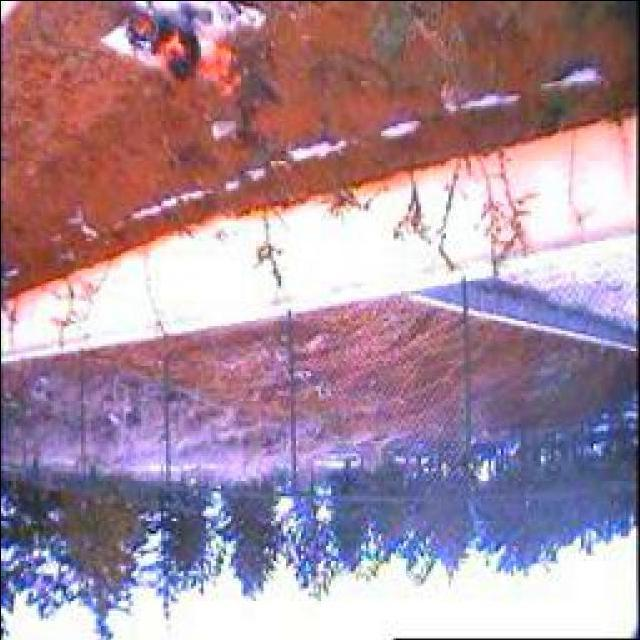Fire: (120, 8, 246, 100)
